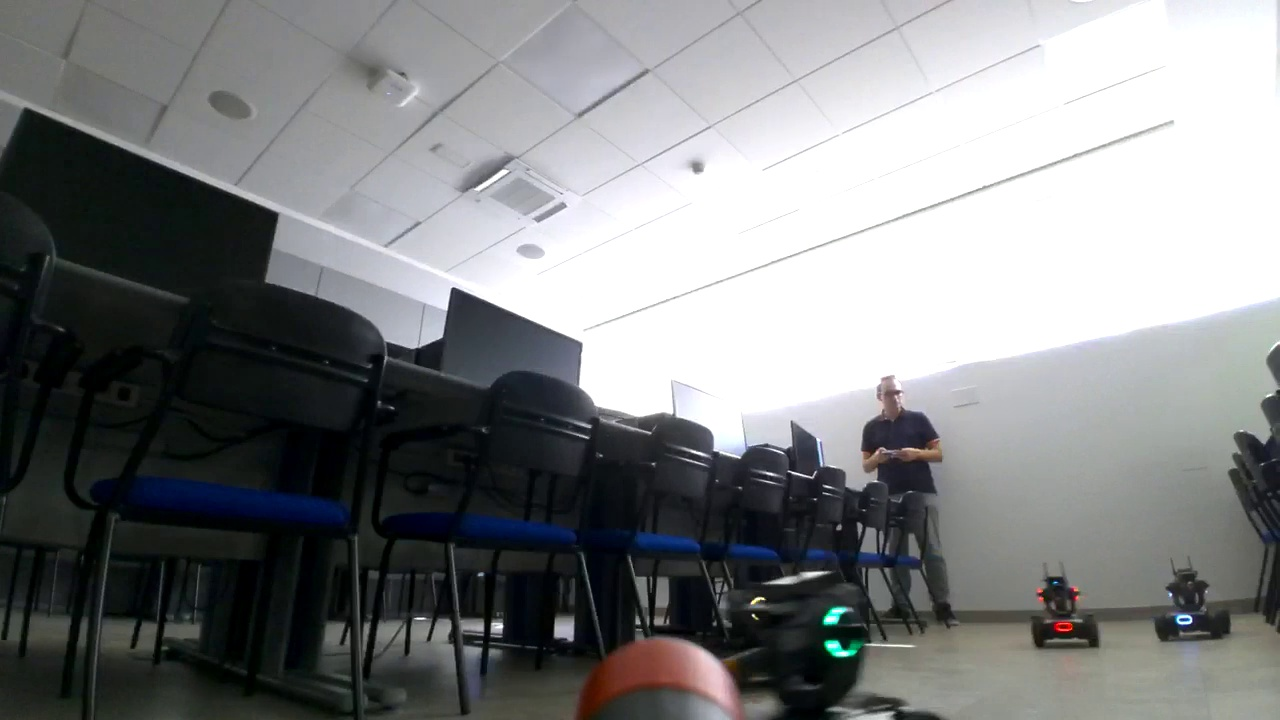robot: (691, 530, 945, 720), (1156, 555, 1230, 642), (1030, 562, 1100, 646)
